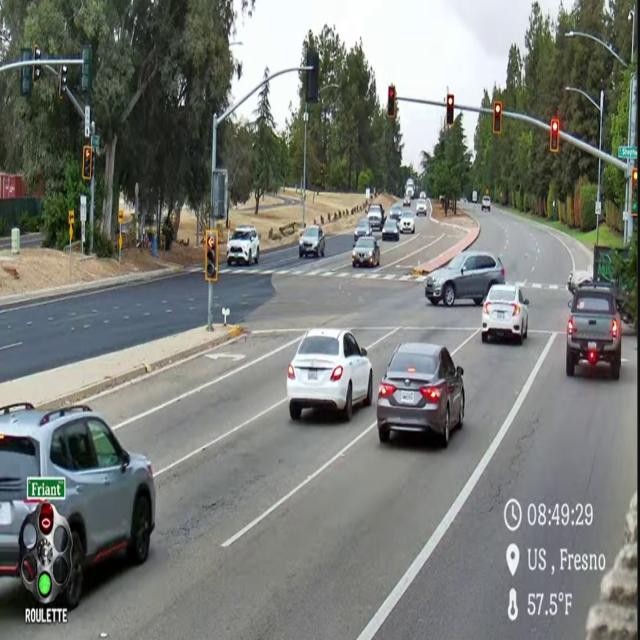car: (0, 403, 155, 608), (377, 343, 464, 446), (287, 328, 373, 421), (566, 284, 621, 380), (425, 251, 504, 306), (482, 284, 528, 343), (227, 226, 259, 265), (352, 237, 380, 268), (299, 225, 325, 257), (567, 271, 592, 295), (354, 217, 372, 245), (367, 203, 385, 230), (382, 216, 399, 240), (367, 208, 383, 231), (399, 210, 414, 233), (388, 203, 403, 220), (416, 198, 427, 215), (481, 196, 490, 211), (403, 193, 411, 206), (419, 192, 426, 199)
traffic signal: (306, 49, 319, 103), (205, 230, 218, 282), (81, 45, 92, 97), (82, 145, 93, 181), (21, 66, 32, 96), (387, 85, 396, 119), (59, 65, 68, 99), (493, 101, 502, 135), (550, 119, 559, 152), (446, 94, 454, 127), (632, 168, 637, 217), (32, 65, 41, 82), (632, 168, 637, 189)
truck: (567, 247, 633, 325), (405, 178, 415, 199)
